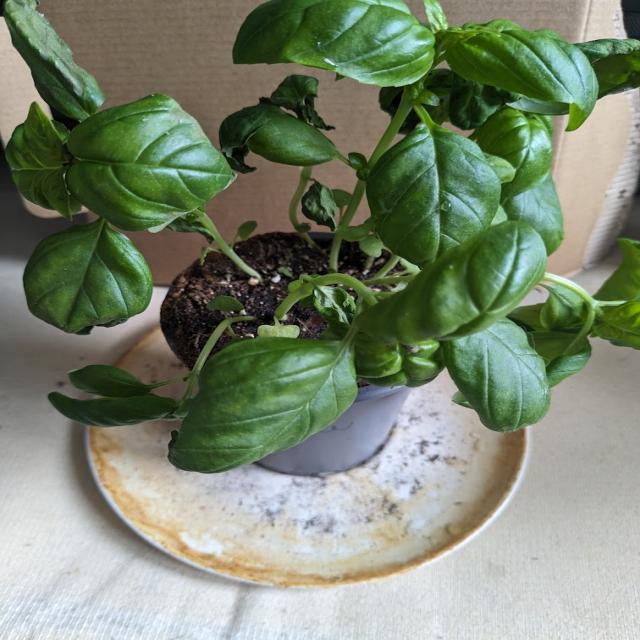dark: (0, 0, 105, 120), (416, 74, 514, 123), (273, 73, 343, 134), (216, 100, 261, 172), (298, 176, 349, 233), (61, 312, 123, 341)
healthy: (162, 343, 358, 475), (366, 220, 549, 346), (75, 94, 240, 230), (366, 127, 502, 270), (213, 0, 439, 72), (451, 324, 545, 439), (3, 107, 84, 213), (454, 20, 586, 78), (53, 368, 167, 427)
